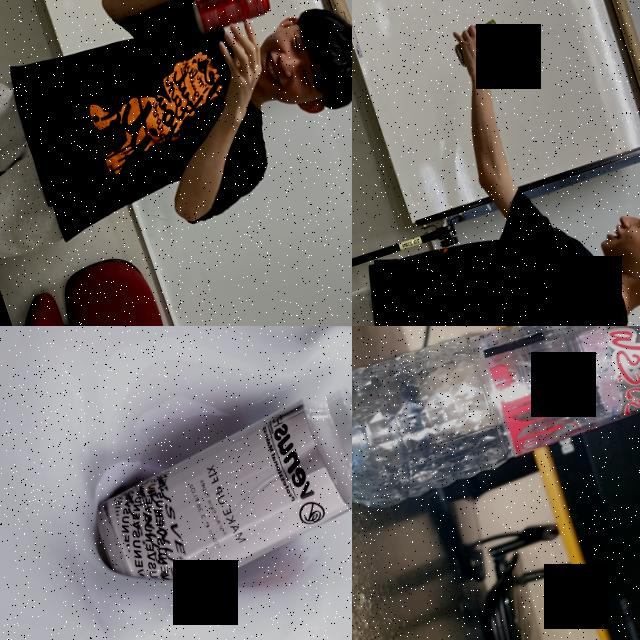bottle: (352, 326, 640, 524)
can: (186, 0, 273, 38), (448, 16, 508, 68)
